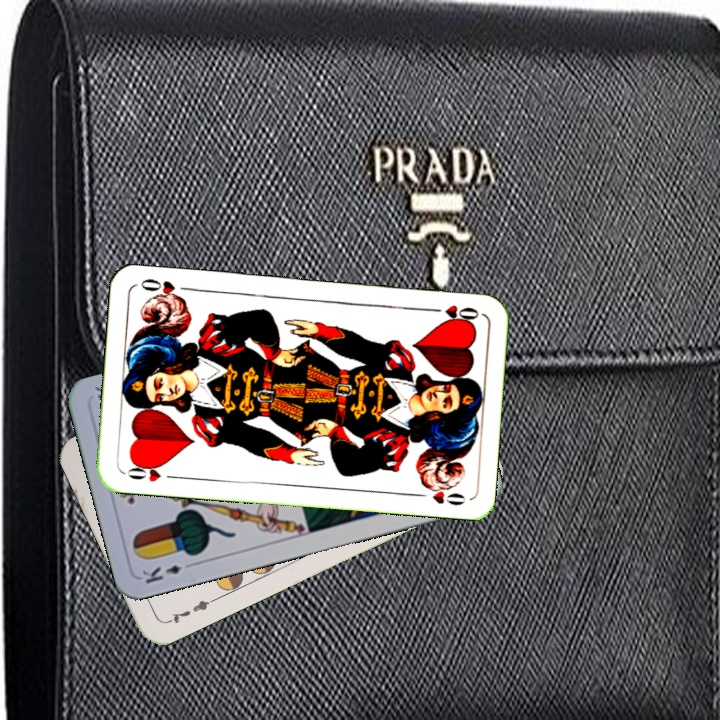E7: (161, 594, 218, 626)
EK: (138, 558, 197, 587)
HO: (120, 458, 179, 485), (424, 300, 482, 325)
